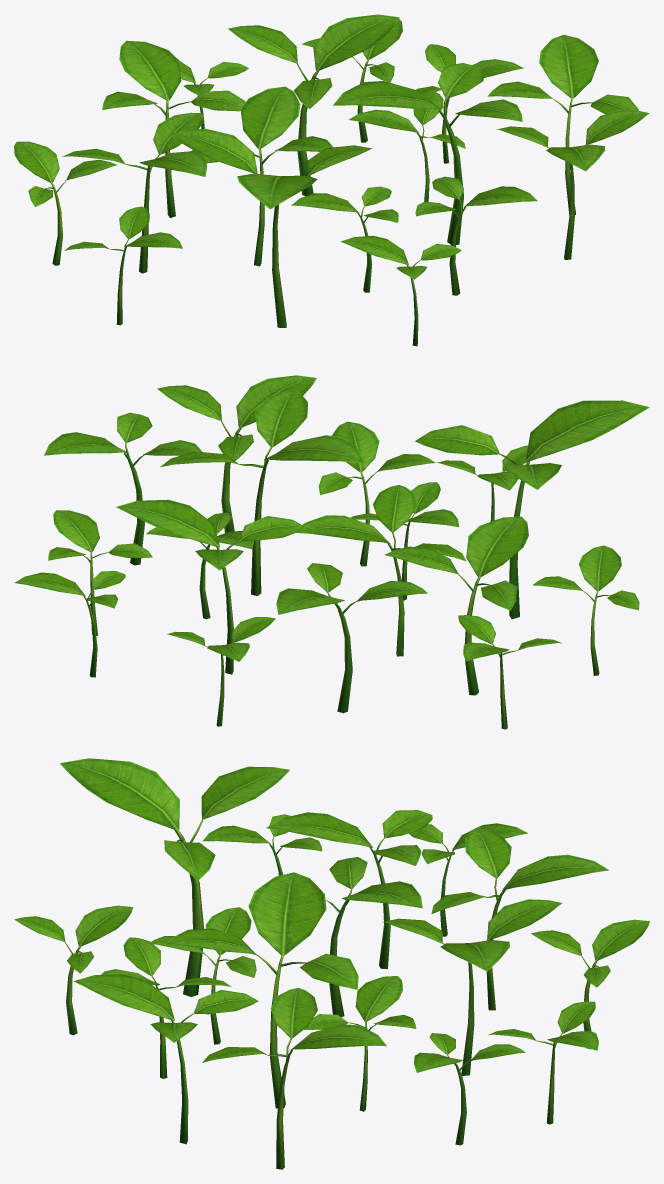
File: flower_11.fbx
The picture shows the model from 3 angles, top to bottom: view 1: azimuth 30°, elevation 25°; view 2: azimuth 150°, elevation 25°; view 3: azimuth 270°, elevation 25°; orthographic projection. The views are drawn at different scales.
Parts seen in each view (by area): view 1: flower_11; view 2: flower_11; view 3: flower_11.
Part boxes in pixels (left/top/right/bottom): flower_11: left=14, top=14, right=649, bottom=346; flower_11: left=14, top=375, right=649, bottom=729; flower_11: left=14, top=758, right=649, bottom=1169.
Bounding box in the file's own units: 5.96 × 1.9 × 5.55.
